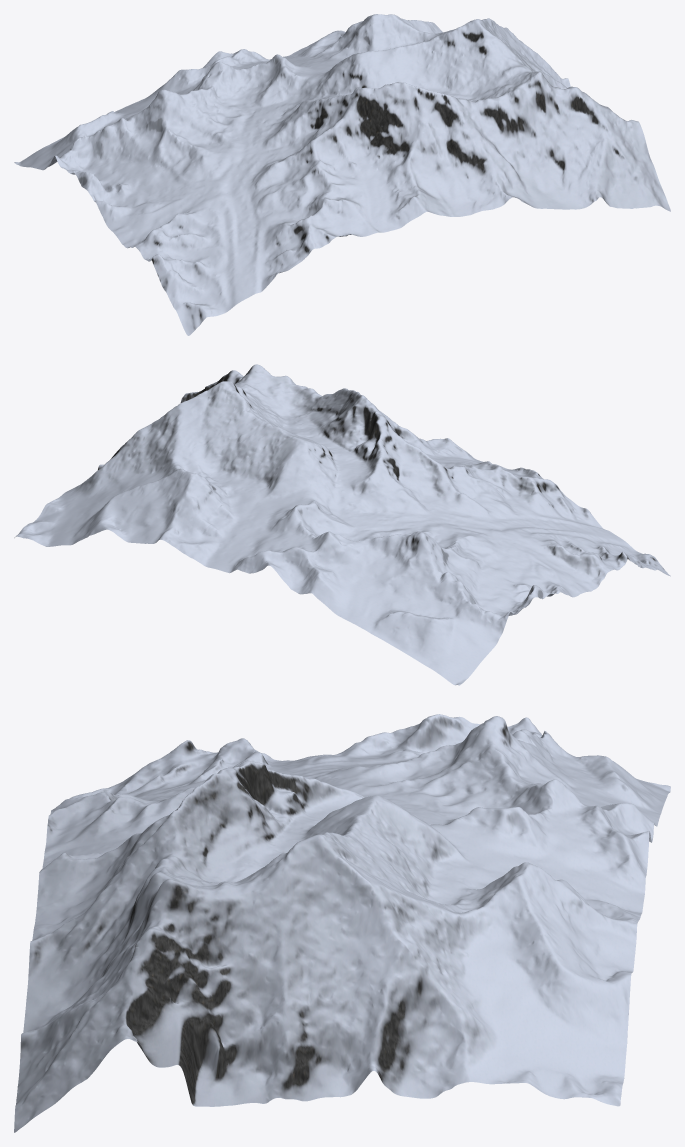
Rendered from mountain-light-baked.glb.
3 views of the same model, one above another, from view 1: azimuth 30°, elevation 25°; view 2: azimuth 150°, elevation 25°; view 3: azimuth 270°, elevation 25° (orthographic). The views are drawn at different scales.
Visible parts, largest first — view 1: No sub.001; view 2: No sub.001; view 3: No sub.001.
Part boxes in pixels (box(x1,y1,x2,y2)): No sub.001: box(14, 14, 670, 335); No sub.001: box(14, 364, 670, 685); No sub.001: box(14, 714, 670, 1132).
Bounding box in the file's own units: 22.6 × 7.36 × 16.9.
Materials: 1 (1 with a texture image).
